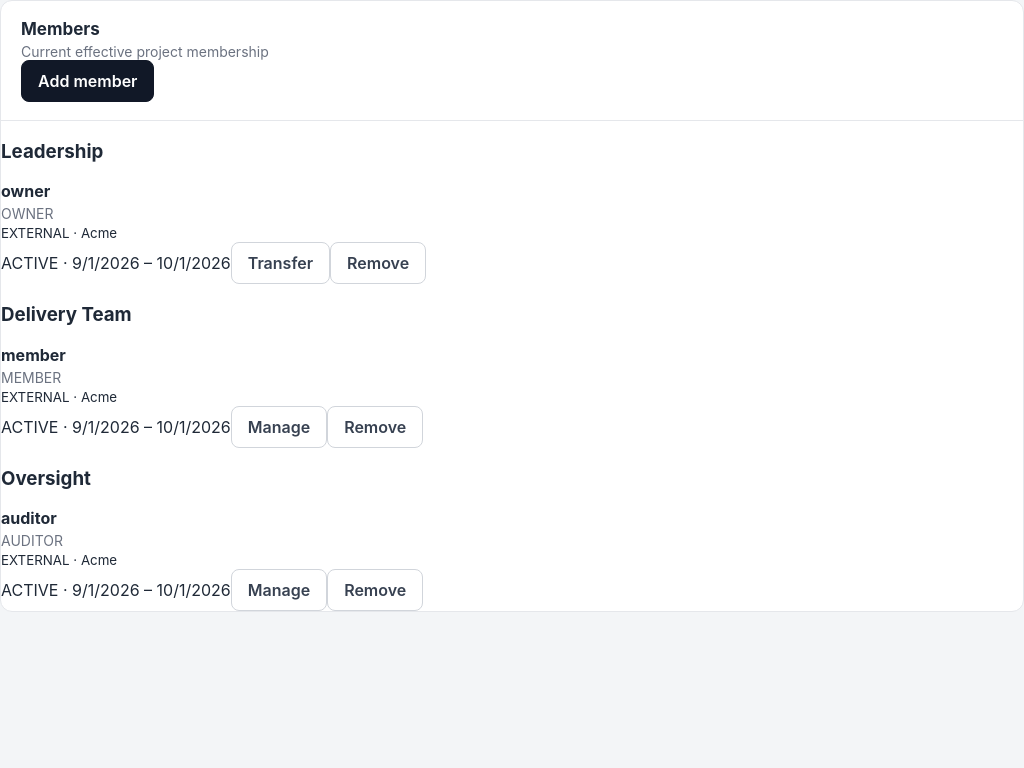
VS002-08 Members › surfaces backend authorization and transfer-required errors without fallback mutation
Click the button "Manage" below "Delivery Team" at (279, 427), box x1=231 y1=406 x2=327 y2=448
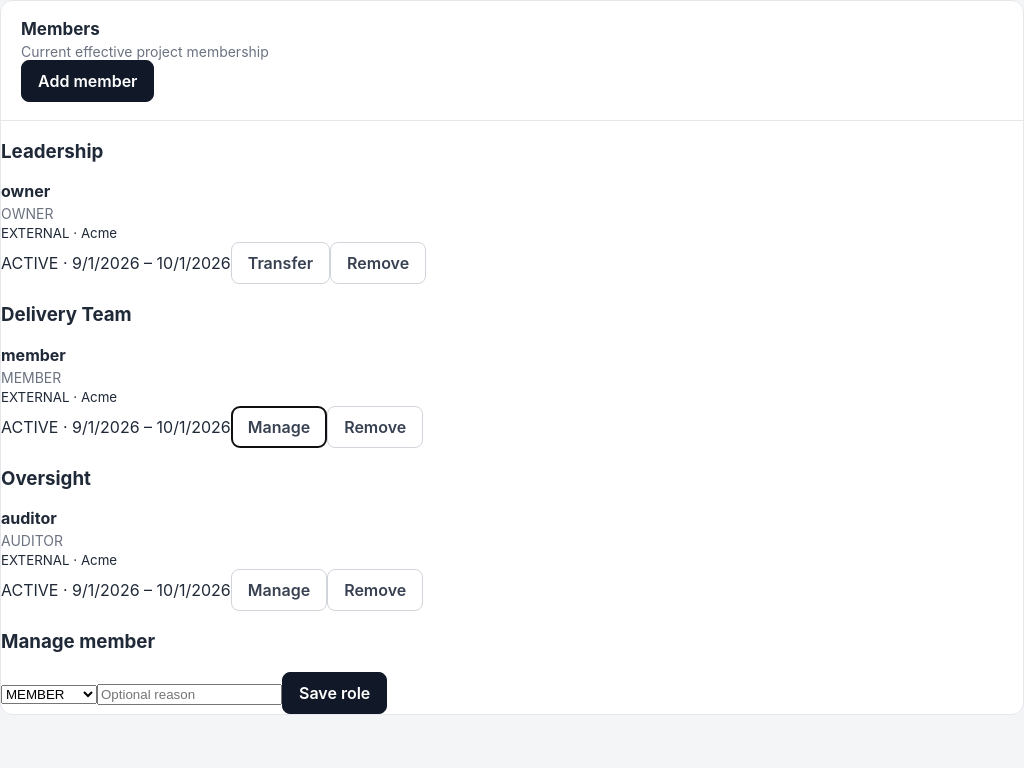
Click the button "Save role" at (335, 693), box x1=282 y1=672 x2=387 y2=714
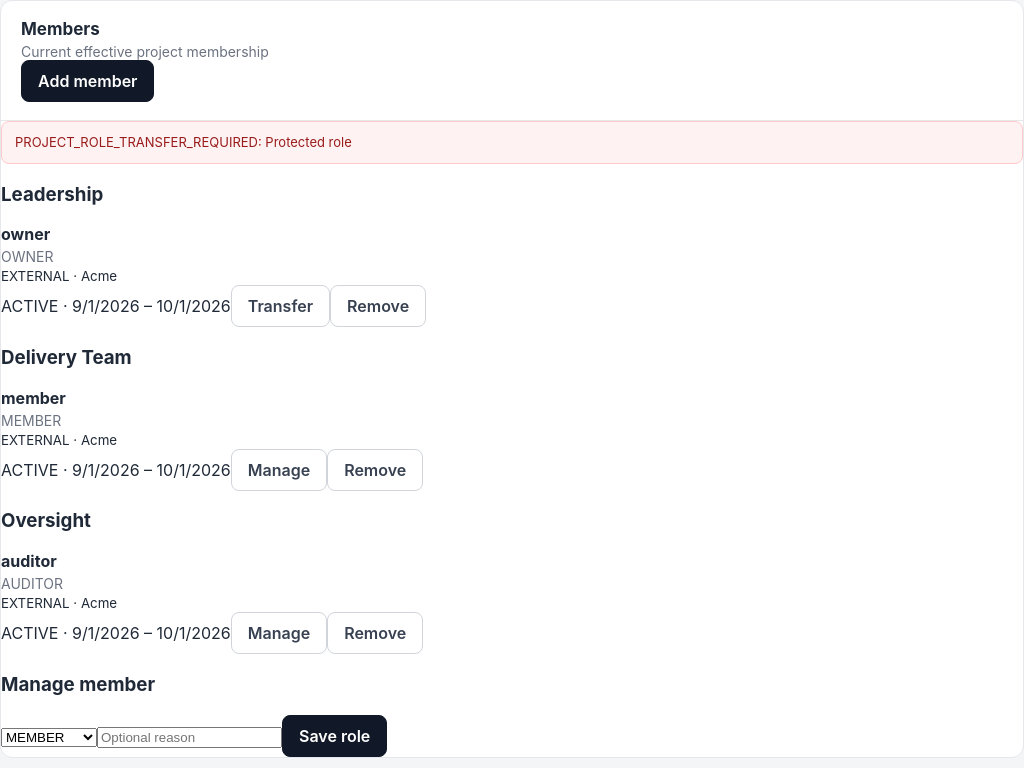
Check: the text "PROJECT_ROLE_TRANSFER_REQUIRED: Protected role" is shown, box x1=1 y1=121 x2=1023 y2=164
